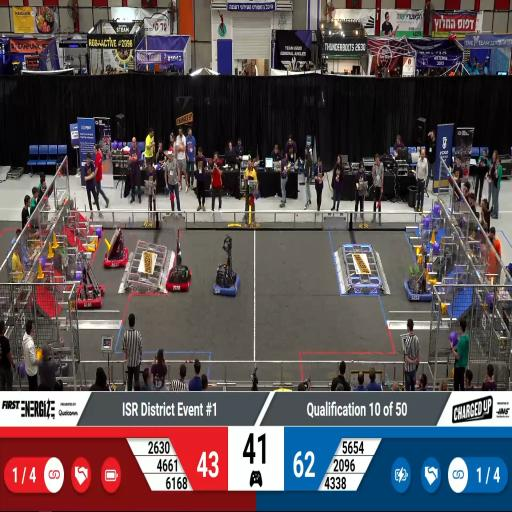robot: (73, 263, 106, 311), (211, 248, 241, 298), (41, 327, 72, 375), (166, 246, 194, 298), (401, 262, 434, 304), (102, 222, 129, 272)
